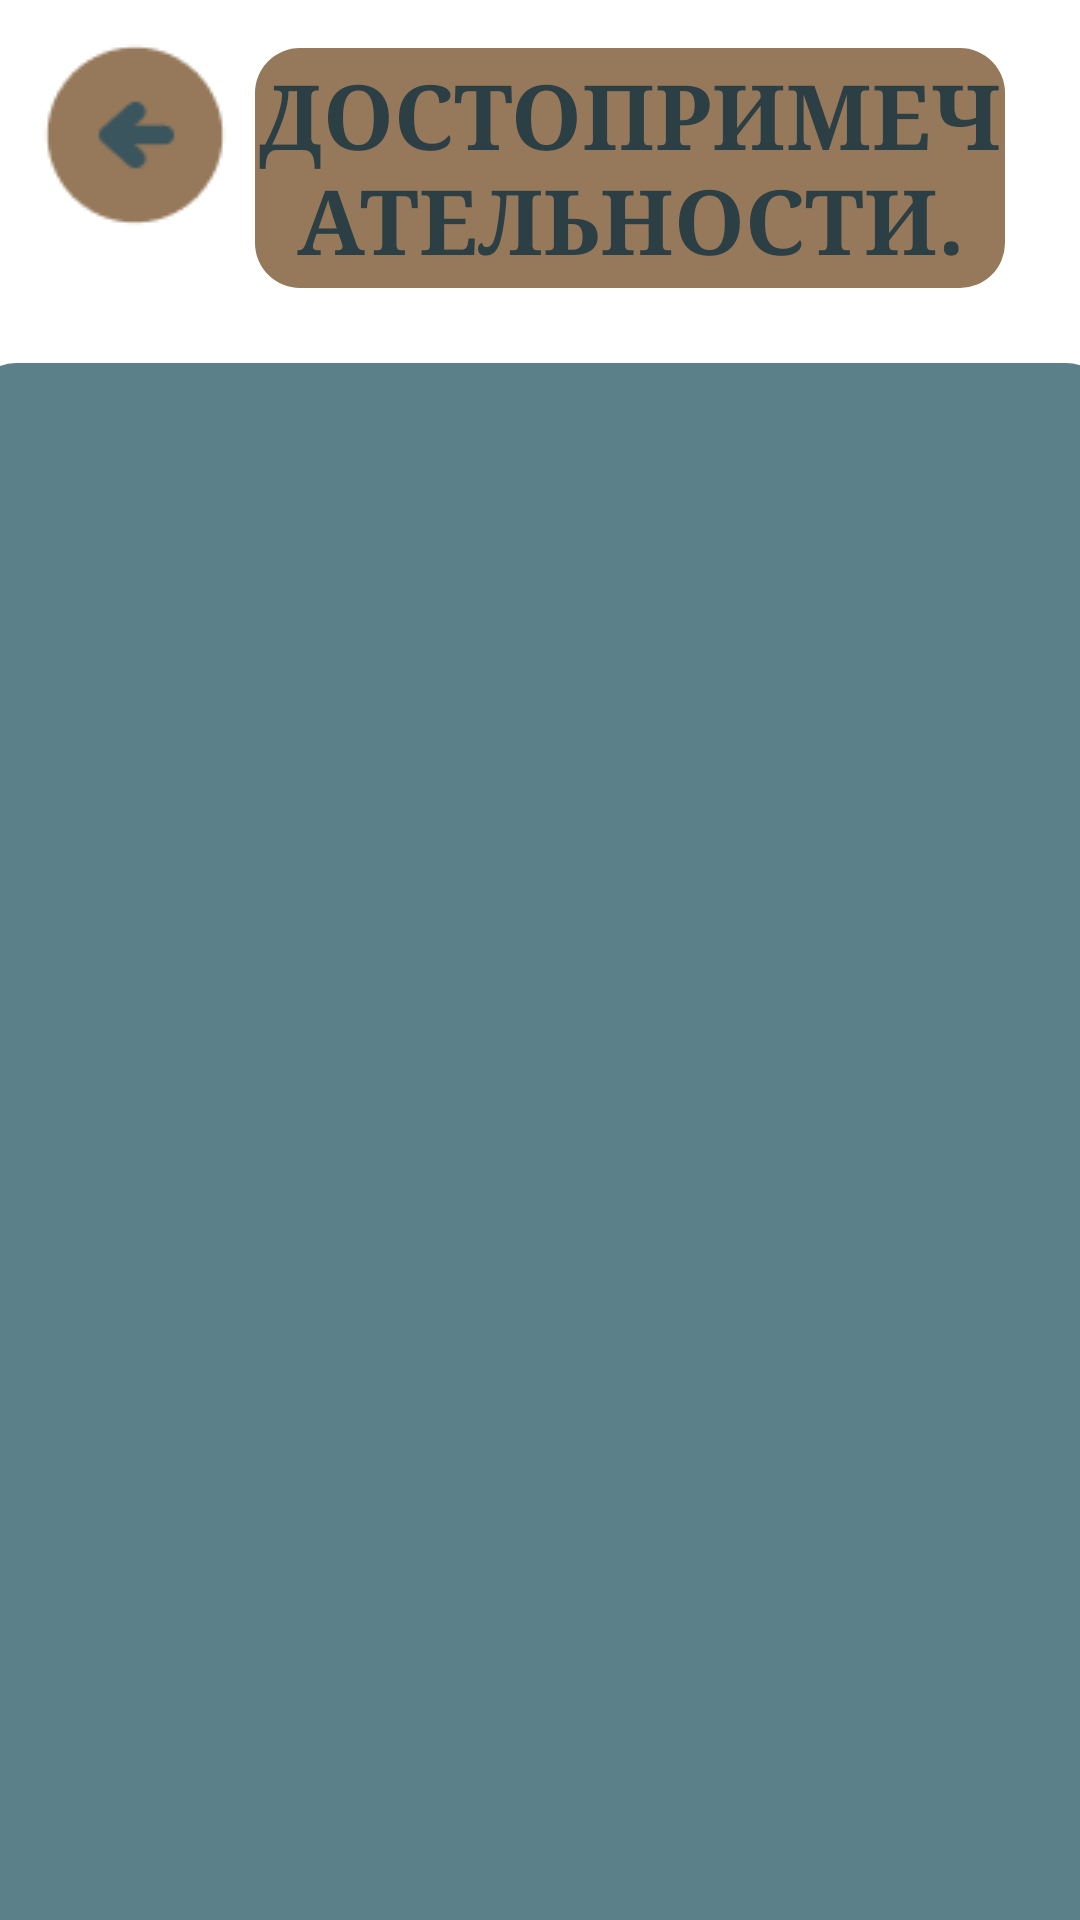

Named icons in this screenshot (1080 x 1920) and their centers, [x,y]:
arrow: [135,135]
